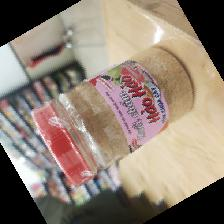Hao_hao: (30, 46, 195, 186)
